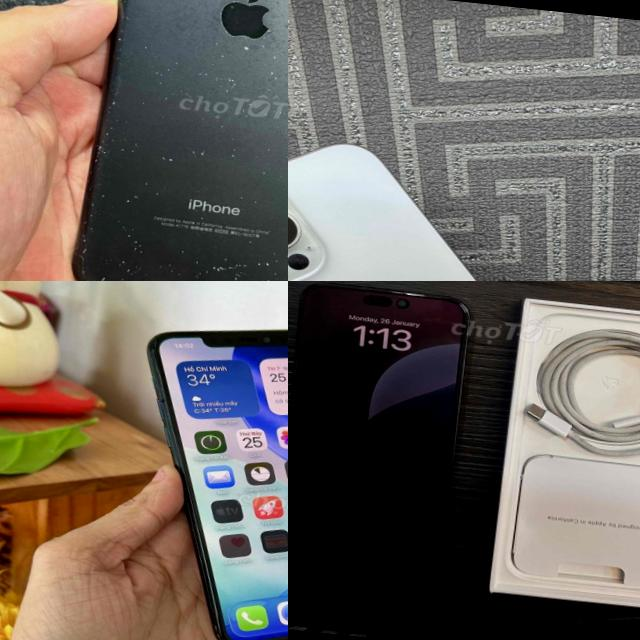gen_11: (117, 308, 288, 640)
gen_15: (288, 281, 491, 583)
gen_7_8: (64, 0, 288, 281)
